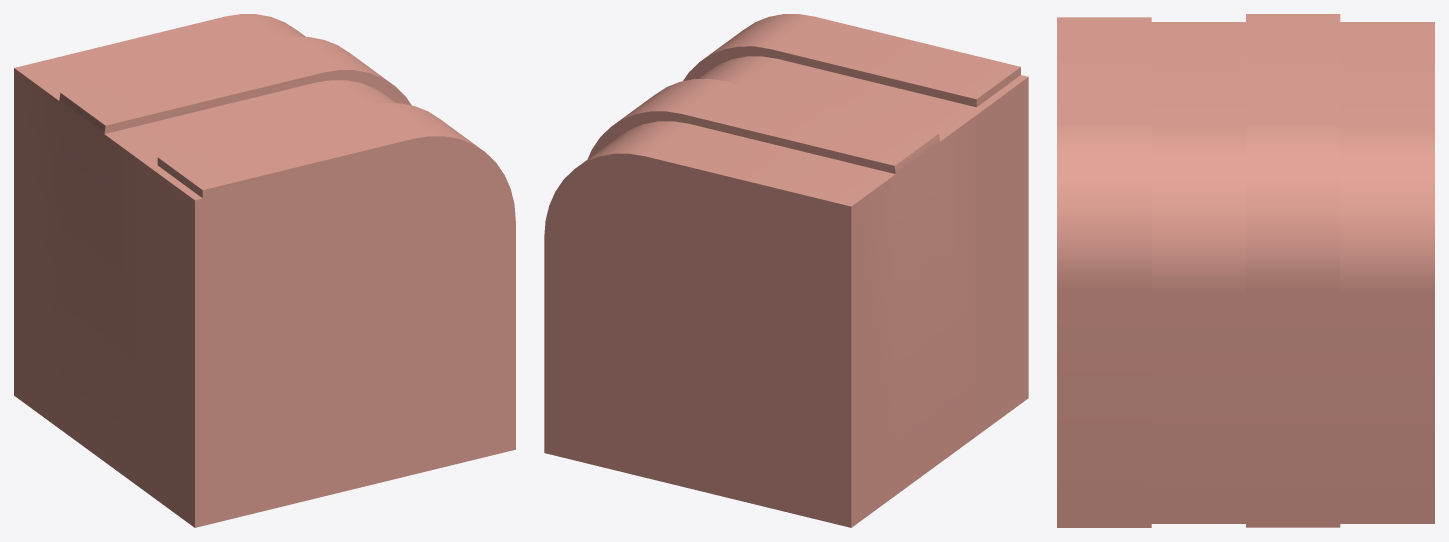
Rendered from cubemod_borde1.fbx.
3 views of the same model, side by side, from view 1: azimuth 30°, elevation 25°; view 2: azimuth 150°, elevation 25°; view 3: azimuth 270°, elevation 25° (orthographic). The views are drawn at different scales.
Parts seen in each view (by area): view 1: cube_modular_ladrillo_borde1; view 2: cube_modular_ladrillo_borde1; view 3: cube_modular_ladrillo_borde1.
Boxes of the visible parts, x1,y1,x2,y2 form: cube_modular_ladrillo_borde1: (14,14,515,527); cube_modular_ladrillo_borde1: (544,14,1028,527); cube_modular_ladrillo_borde1: (1057,14,1434,527).
Size of the model in its own units: 410 by 410 by 400.
